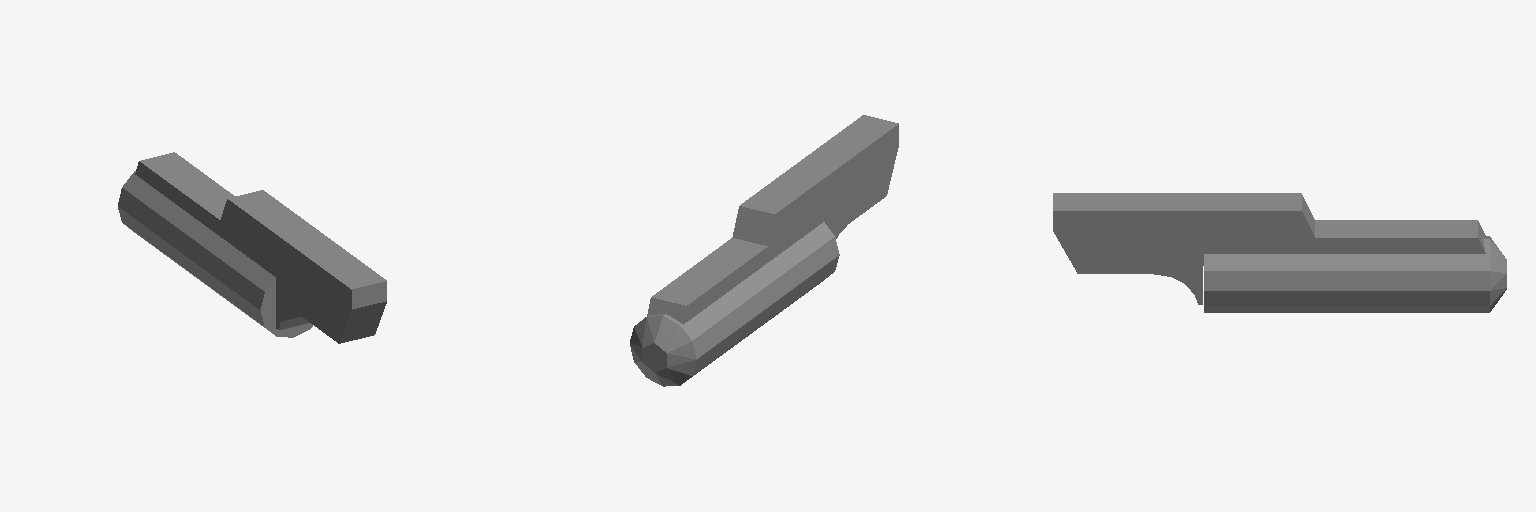
The model's file is acc1.obj.
3 views of the same model, side by side, from view 1: azimuth 30°, elevation 25°; view 2: azimuth 150°, elevation 25°; view 3: azimuth 270°, elevation 25° (orthographic).
Parts seen in each view (by area): view 1: acc1; view 2: acc1; view 3: acc1.
Part boxes in pixels (x1,y1,x2,y2): acc1: (118,152,386,343); acc1: (630,115,898,386); acc1: (1053,193,1506,312).
Bounding box in the file's own units: 2.5 × 3.83 × 14.64.